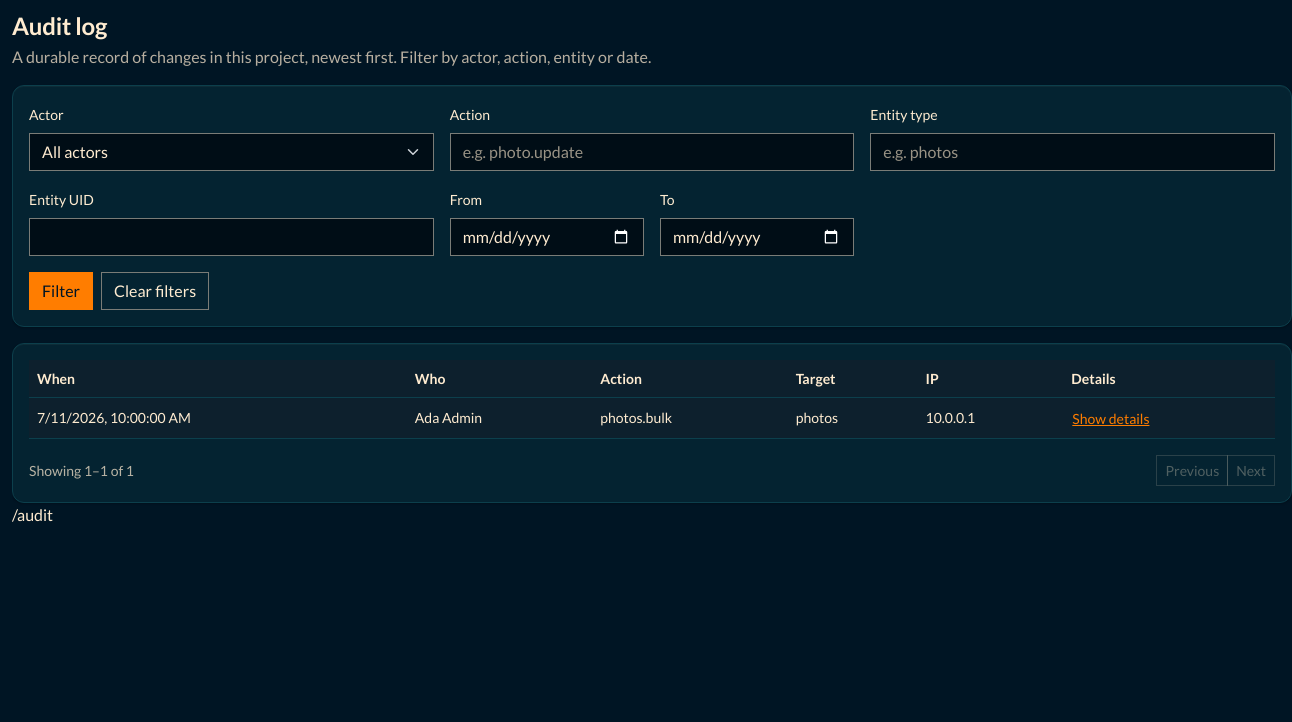
AuditPage › links the UIDs inside the details, where a bulk action lists its targets
Expected: the table is shown, [29,360,1275,439]
Click the button "Show details". click: click(1111, 418)
box: [1071,407,1150,430]
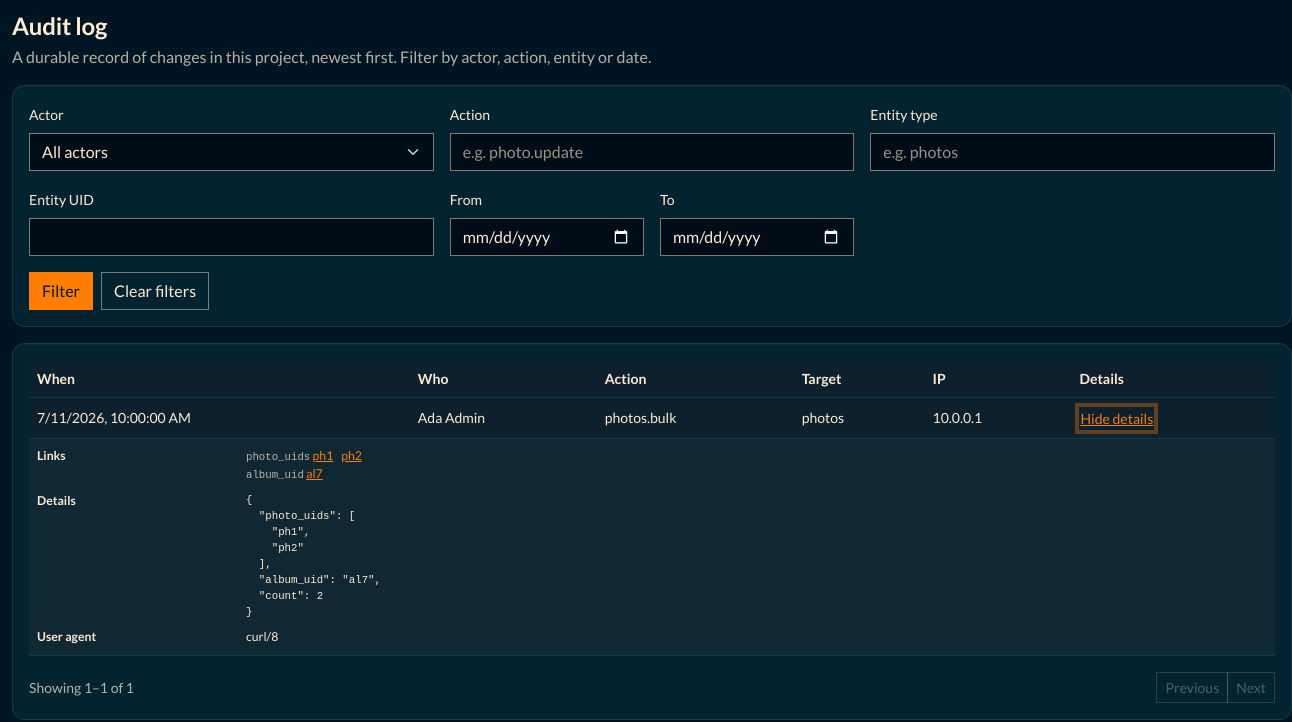
Expected: the text "photo_uids" is shown, [246,451,310,463]
Expected: the text "\"count\": 2" is shown, [246,494,381,618]
